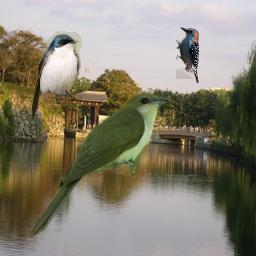Cuckoo: (29, 92, 171, 240)
Swallow: (31, 31, 82, 119)
Woodpecker: (176, 26, 199, 83)
